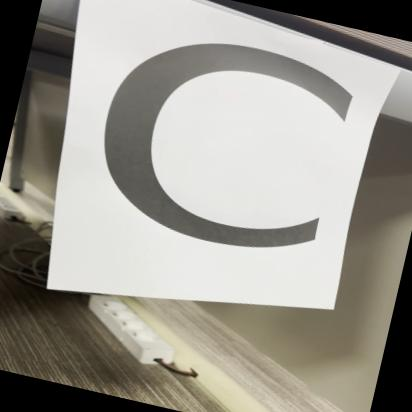seat: (33, 0, 393, 309)
